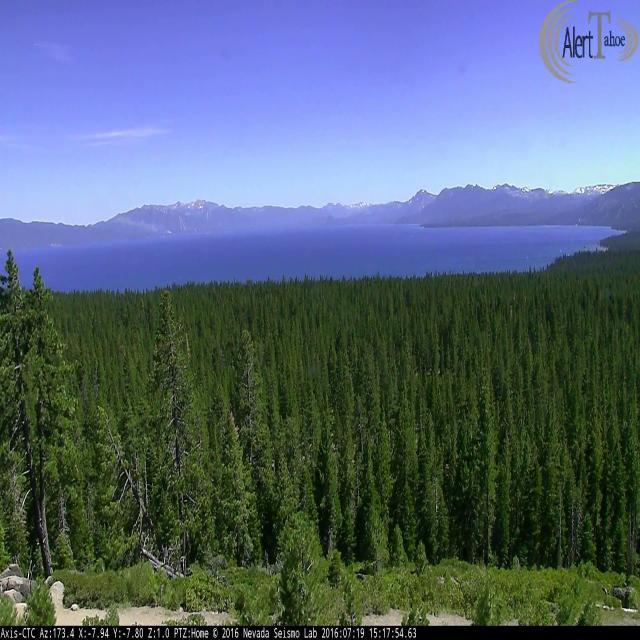smoke: (107, 208, 174, 238)
